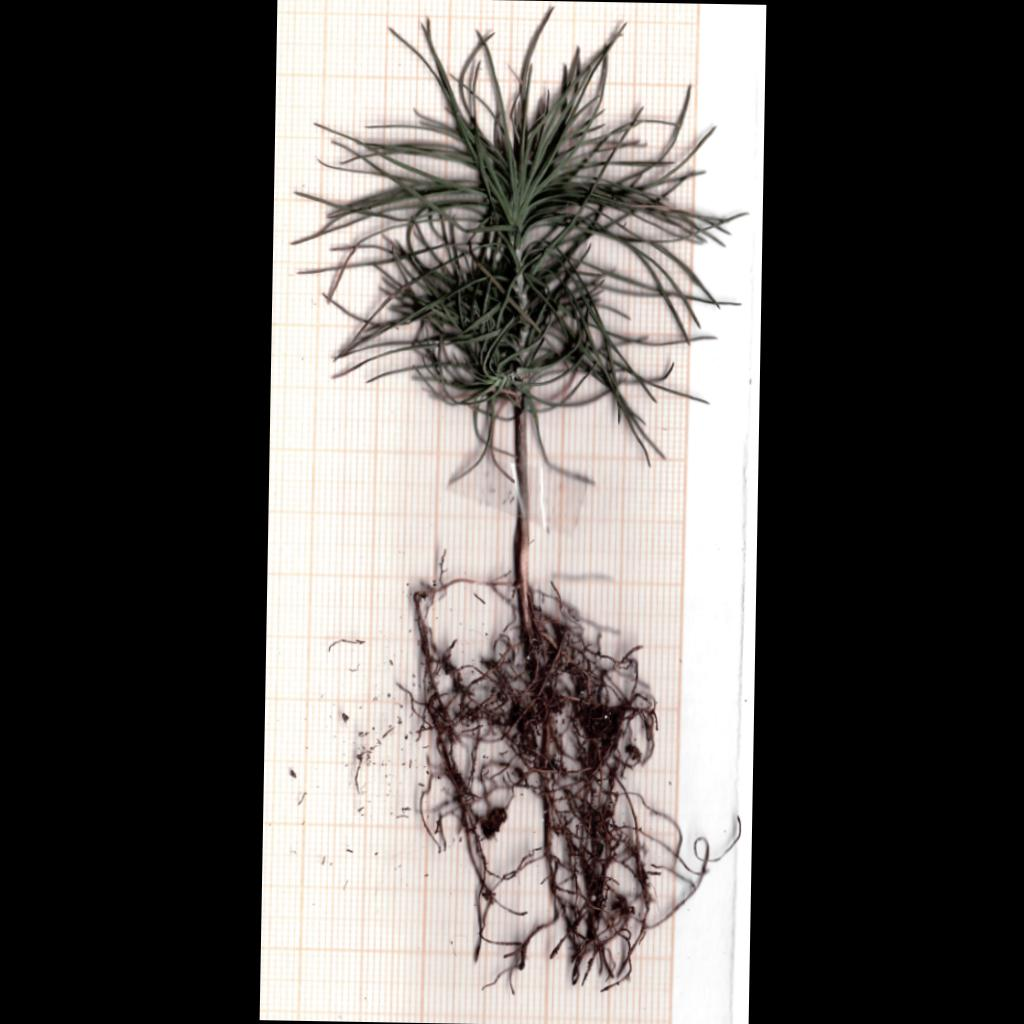flowerCedr: (324, 11, 732, 464)
rootCedr: (412, 573, 742, 990)
stemCedr: (514, 401, 531, 633)
